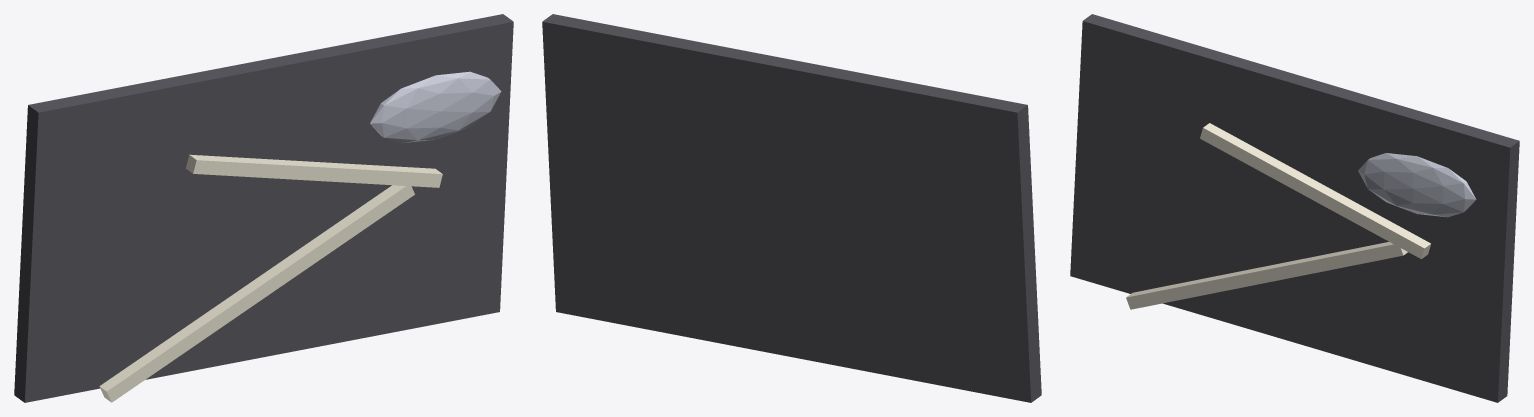
Rendered from 05_weathering_wear_overlay_5.glb.
The picture shows the model from 3 angles, left to right: view 1: azimuth 30°, elevation 25°; view 2: azimuth 150°, elevation 25°; view 3: azimuth 330°, elevation 25°; orthographic projection. The views are drawn at different scales.
Visible parts, largest first — view 1: wear_plate, scratch_a, rust_or_moss_spot, scratch_b; view 2: wear_plate; view 3: wear_plate, rust_or_moss_spot, scratch_b, scratch_a.
Part boxes in pixels (<box>): wear_plate: <box>14,14,513,402</box>; scratch_a: <box>99,185,414,402</box>; rust_or_moss_spot: <box>370,71,501,143</box>; scratch_b: <box>185,154,442,187</box>; wear_plate: <box>542,14,1041,402</box>; wear_plate: <box>1070,14,1519,402</box>; rust_or_moss_spot: <box>1358,153,1476,217</box>; scratch_b: <box>1200,123,1430,259</box>; scratch_a: <box>1126,242,1407,309</box>.
Size of the model in its own units: 1.34 by 0.8143 by 0.134.
